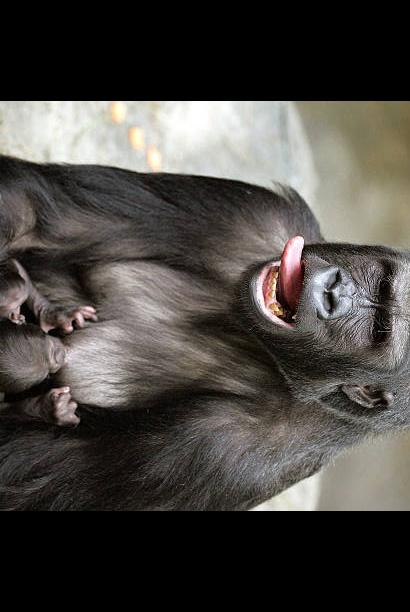gorille_Autres: (94, 133, 410, 511)
